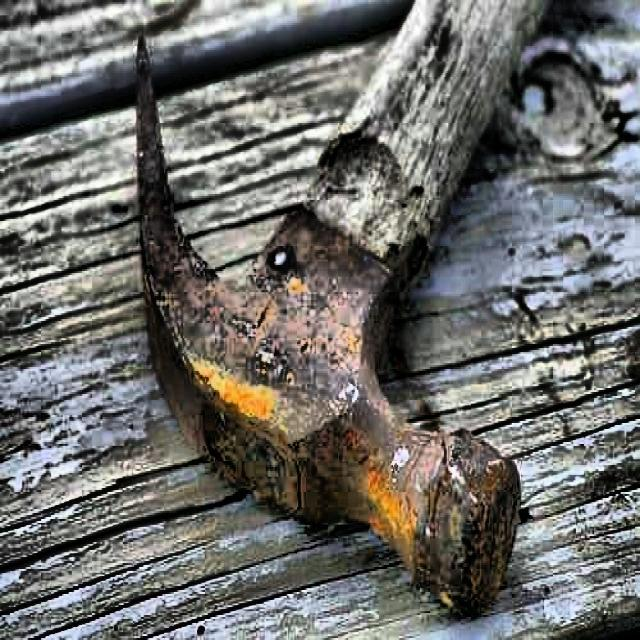hammer: (135, 0, 545, 618)
